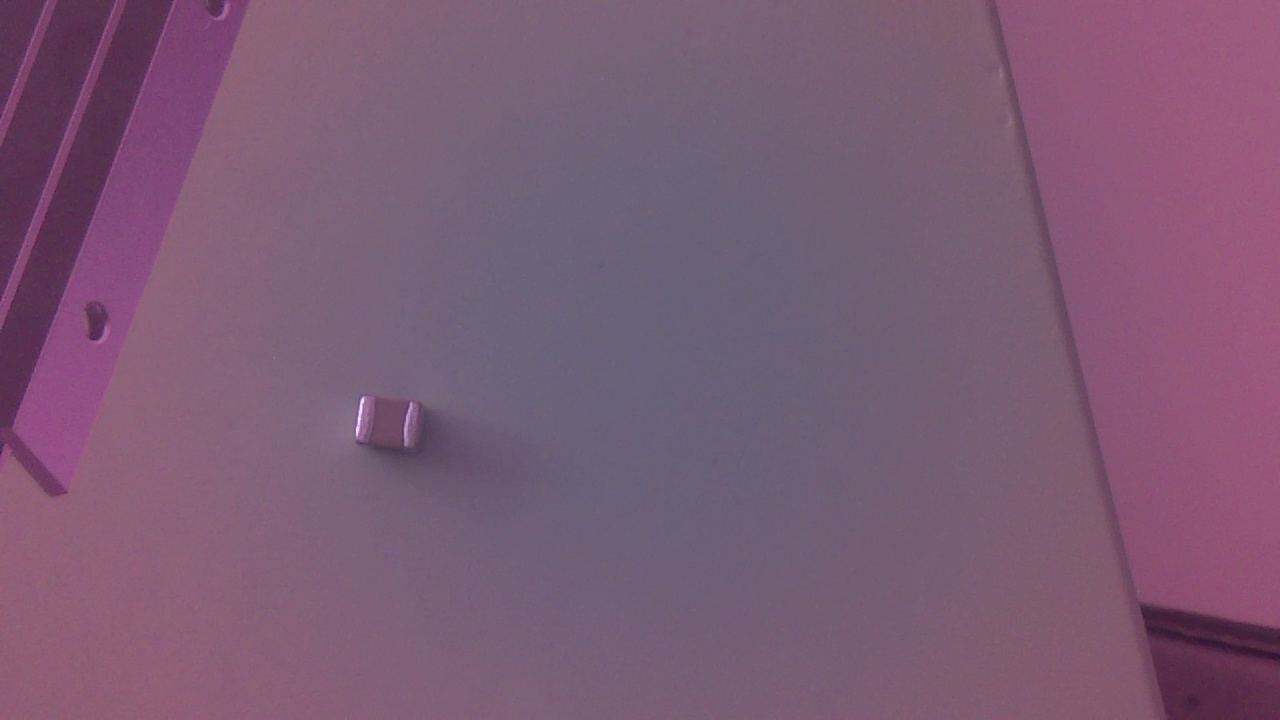Condensator: (353, 393, 436, 467)
